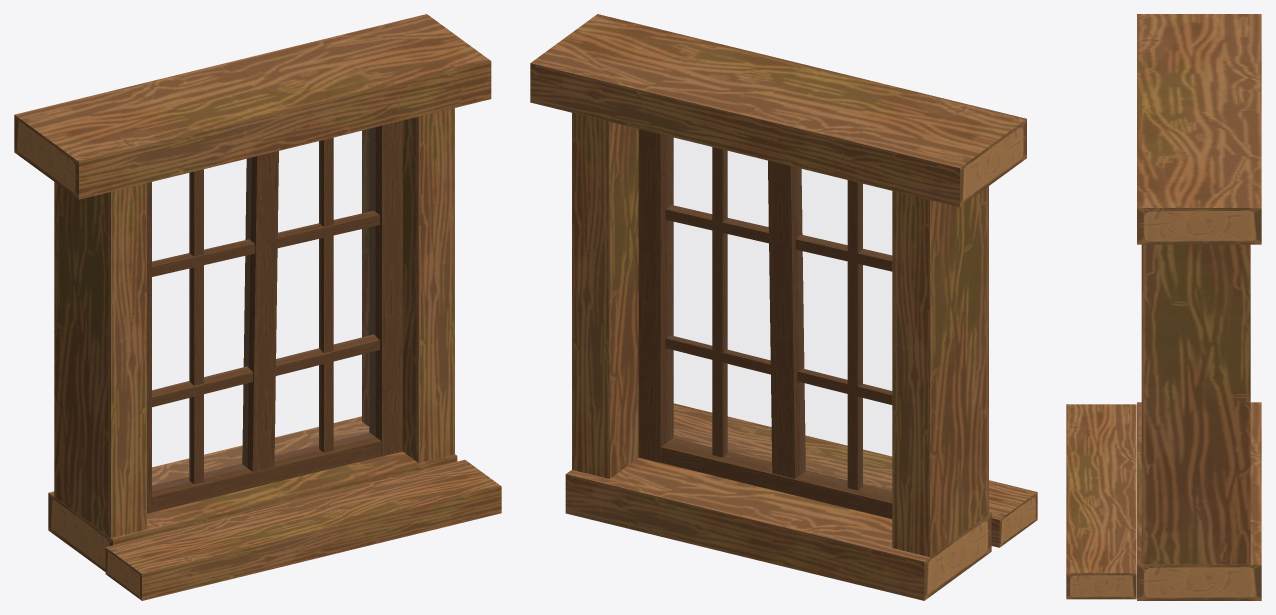
Rendered from Window_Wide_Flat1.glb.
3 renders of one model, left to right at view 1: azimuth 30°, elevation 25°; view 2: azimuth 150°, elevation 25°; view 3: azimuth 270°, elevation 25°, orthographic. The views are drawn at different scales.
Parts seen in each view (by area): view 1: Window_Wide_Flat1; view 2: Window_Wide_Flat1; view 3: Window_Wide_Flat1.
Boxes of the visible parts, <box> form: Window_Wide_Flat1: <box>14,14,501,600</box>; Window_Wide_Flat1: <box>530,14,1037,600</box>; Window_Wide_Flat1: <box>1066,14,1261,600</box>.
Bounding box in the file's own units: 1.61 × 1.58 × 0.6835.
Materials: 2 (1 with a texture image).
